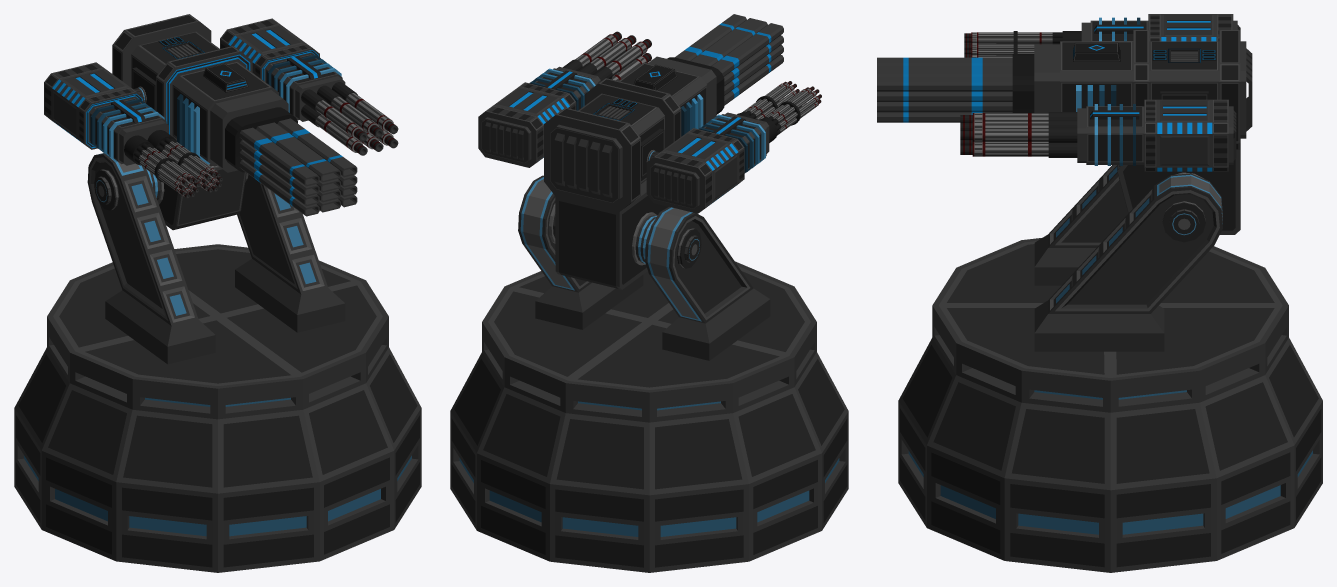
The picture shows the model from 3 angles, left to right: view 1: azimuth 30°, elevation 25°; view 2: azimuth 150°, elevation 25°; view 3: azimuth 270°, elevation 25°; orthographic projection. The views are drawn at different scales.
Visible parts, largest first — view 1: PTB002, BT003, NTB002, MGT007, GGT006; view 2: PTB002, BT003, NTB002, MGT007, GGT006; view 3: PTB002, BT003, NTB002, GGT006, MGT007.
Boxes of the visible parts, x1,y1,x2,y2 form: PTB002: [14, 244, 421, 572]; BT003: [112, 14, 357, 230]; NTB002: [87, 153, 345, 364]; MGT007: [44, 62, 222, 198]; GGT006: [220, 18, 398, 155]; PTB002: [450, 261, 848, 572]; BT003: [544, 14, 783, 289]; NTB002: [518, 175, 770, 360]; MGT007: [646, 81, 821, 213]; GGT006: [478, 31, 651, 167]; PTB002: [898, 237, 1322, 572]; BT003: [877, 30, 1252, 234]; NTB002: [1034, 165, 1222, 351]; GGT006: [960, 99, 1236, 171]; MGT007: [964, 14, 1240, 57].
Size of the model in its own units: 782 by 888 by 821.
